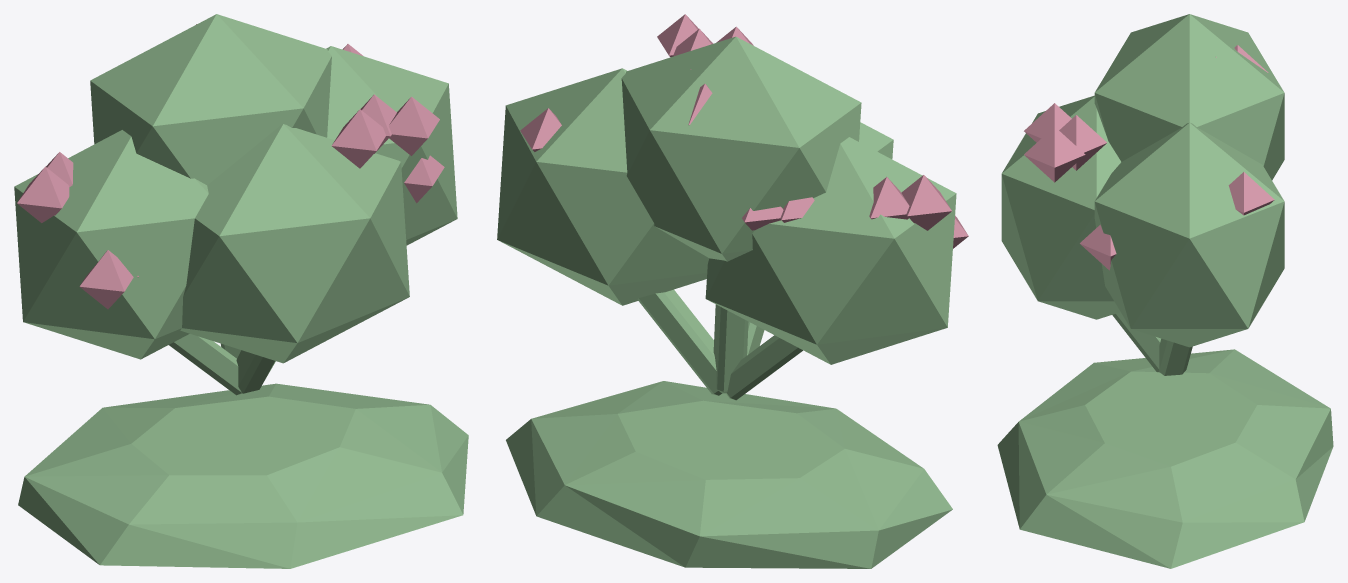
File: world_berry_bush_b.fbx
3 views of the same model, side by side, from view 1: azimuth 30°, elevation 25°; view 2: azimuth 150°, elevation 25°; view 3: azimuth 270°, elevation 25° (orthographic). The views are drawn at different scales.
Visible parts, largest first — view 1: world_berry_bush_b_mesh; view 2: world_berry_bush_b_mesh; view 3: world_berry_bush_b_mesh.
Part boxes in pixels (x1,y1,x2,y2): world_berry_bush_b_mesh: [14, 14, 468, 568]; world_berry_bush_b_mesh: [497, 14, 968, 568]; world_berry_bush_b_mesh: [997, 14, 1333, 568].
Size of the model in its own units: 0.7882 by 0.79 by 0.5419.
